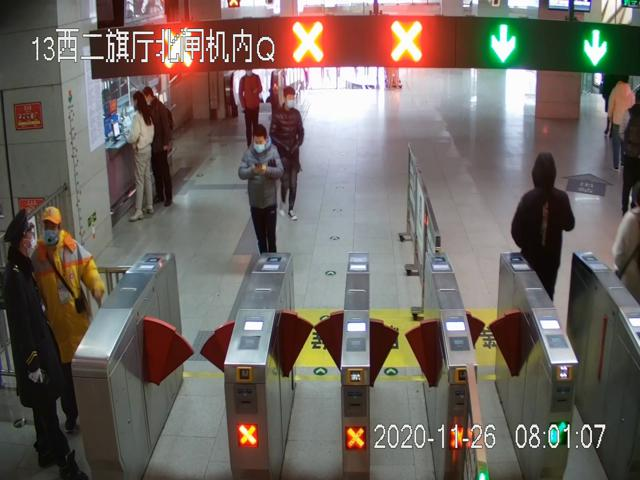person: (0, 209, 74, 469), (36, 207, 108, 432), (512, 146, 577, 303), (239, 125, 285, 254), (273, 86, 311, 223), (121, 91, 155, 219)
